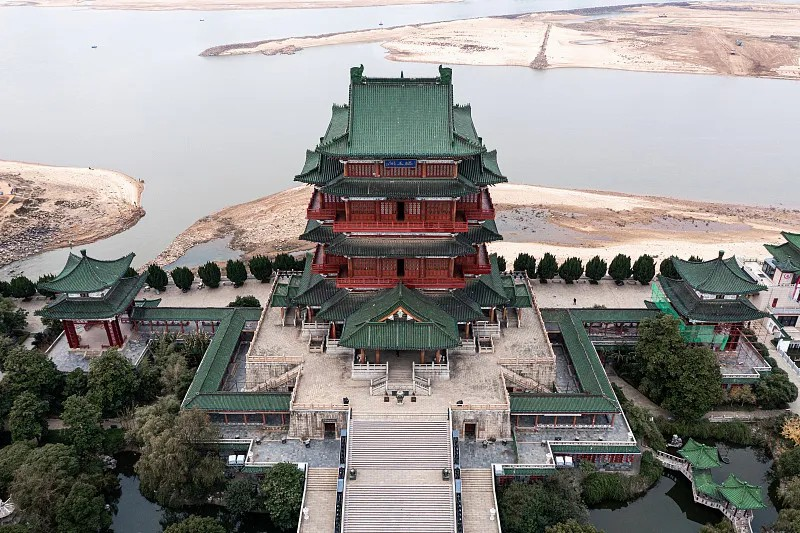Teng: (271, 63, 532, 364)
